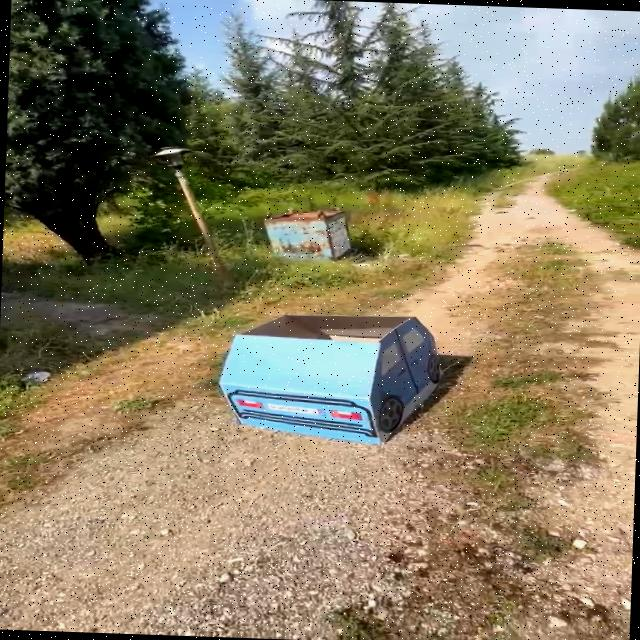blue_car: (211, 296, 465, 460)
